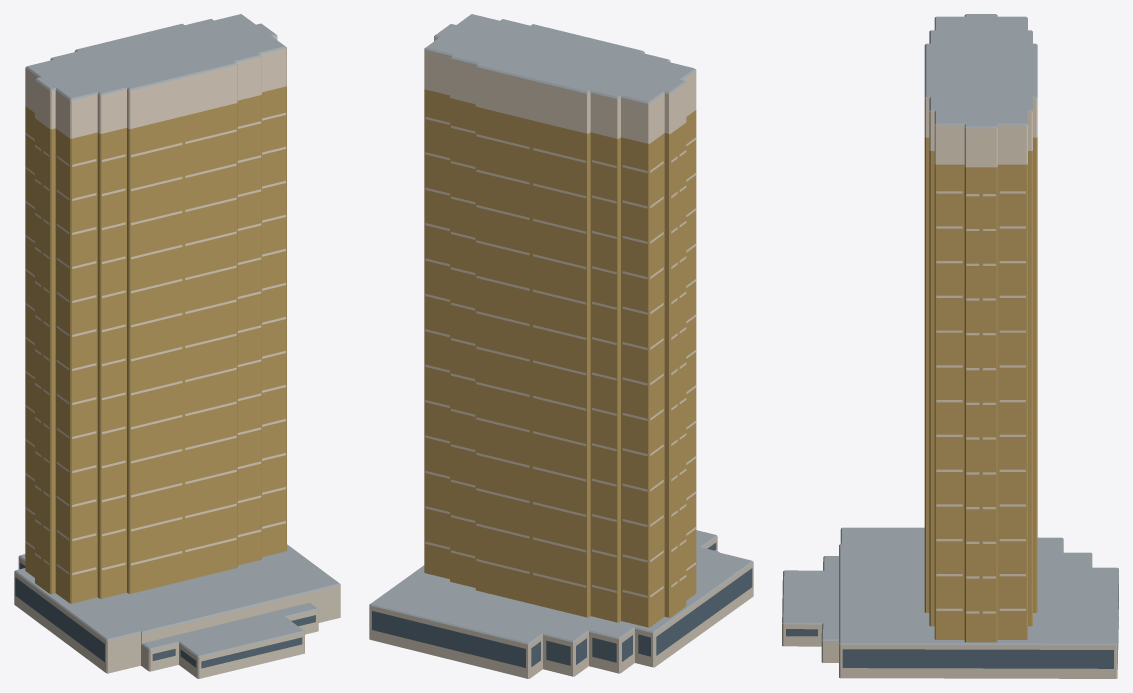
The picture shows the model from 3 angles, left to right: view 1: azimuth 30°, elevation 25°; view 2: azimuth 150°, elevation 25°; view 3: azimuth 270°, elevation 25°; orthographic projection. The views are drawn at different scales.
Visible parts, largest first — view 1: trump-international-hotel-las-vegas; view 2: trump-international-hotel-las-vegas; view 3: trump-international-hotel-las-vegas.
Boxes of the visible parts, x1,y1,x2,y2 form: trump-international-hotel-las-vegas: (14, 14, 340, 678); trump-international-hotel-las-vegas: (369, 14, 753, 678); trump-international-hotel-las-vegas: (782, 14, 1118, 678).
Size of the model in its own units: 86.82 by 190 by 105.
